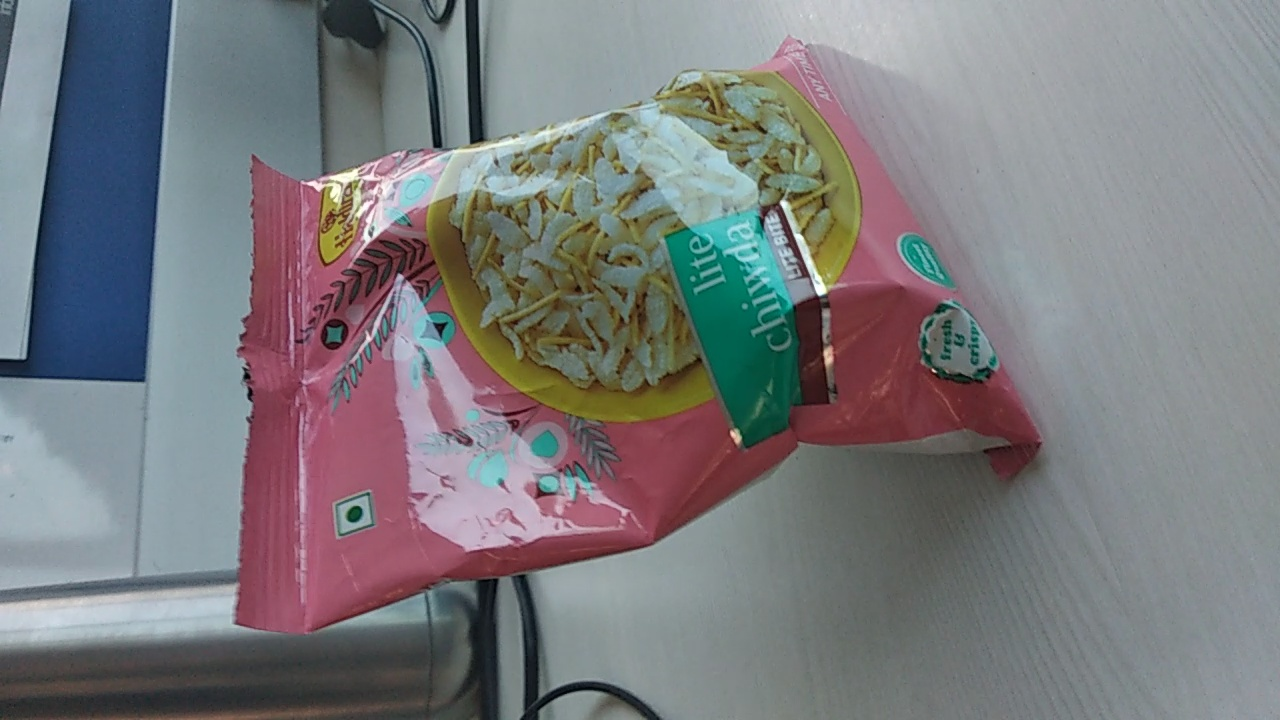liteSnack: (214, 31, 1050, 635)
